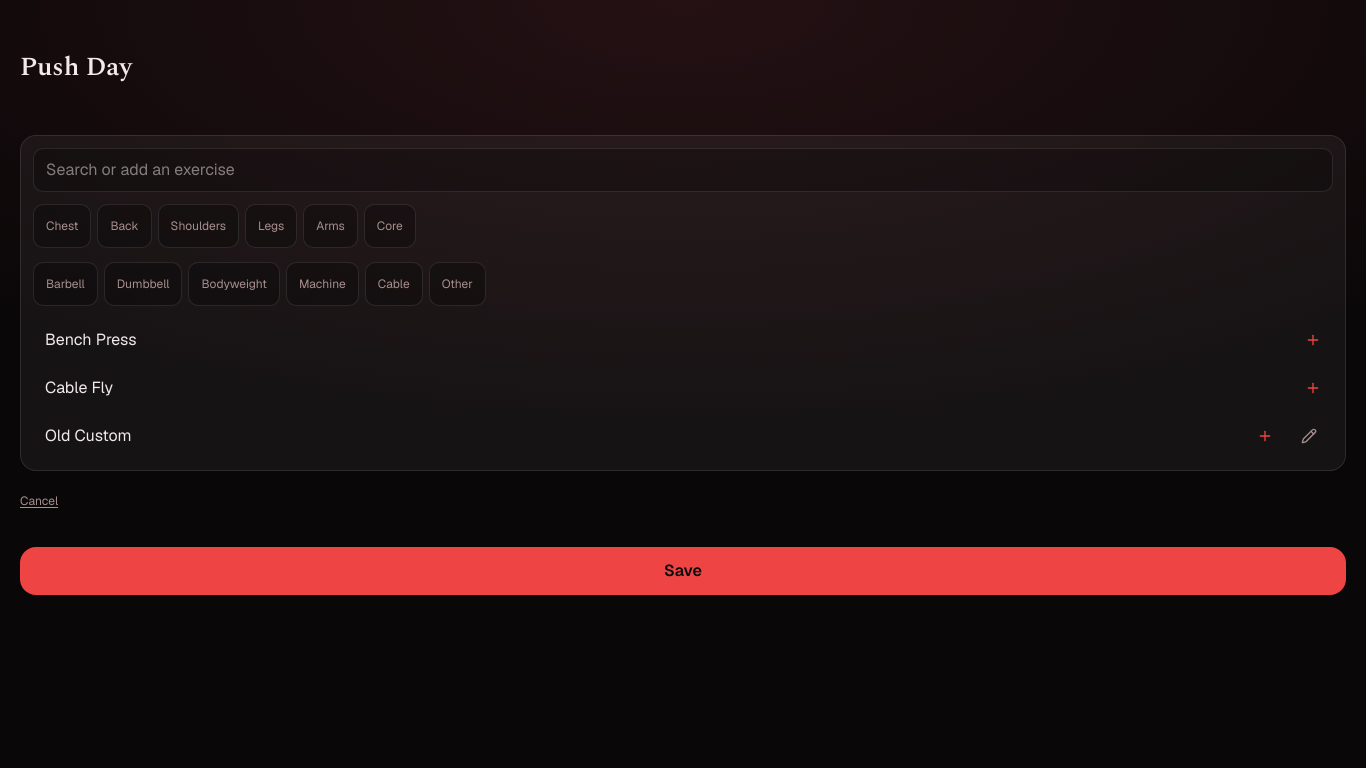
RoutineEditor picker toggle › keeps exactly one row for a renamed custom and logs no duplicate key warning
Click the button named "Edit Old Custom" at (1311,436), box x1=1289 y1=414 x2=1333 y2=458
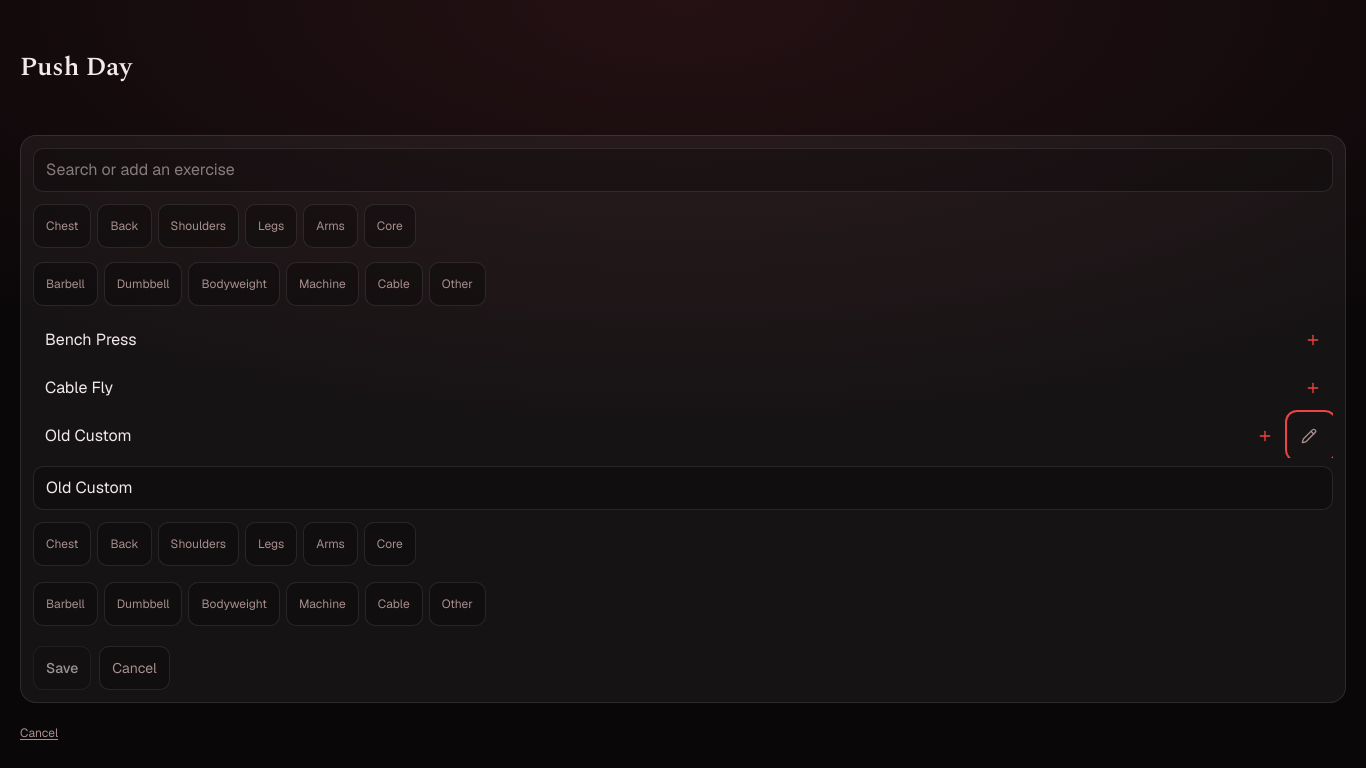
Replace the text in the field named "Exercise name" with "New Custom" at (683,488), box x1=33 y1=466 x2=1333 y2=510
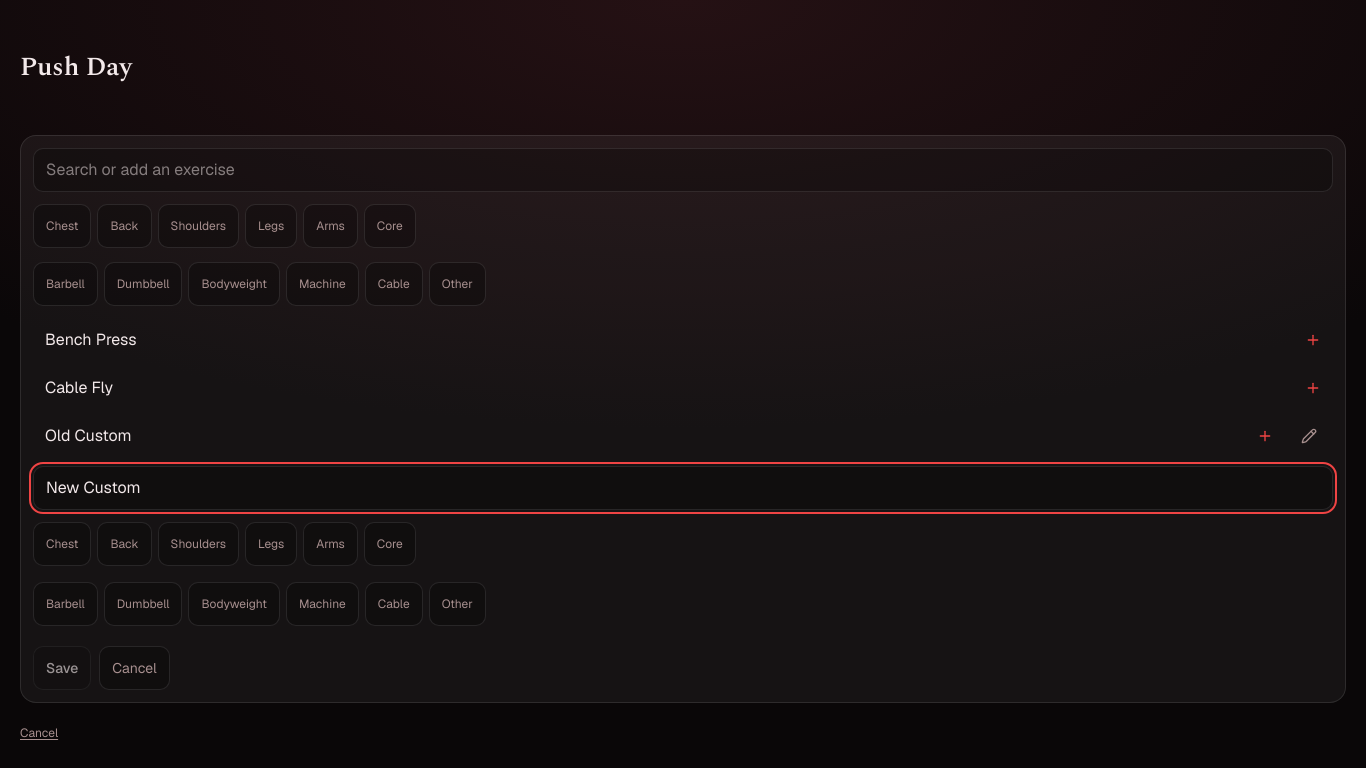
Click the radio button labelled "Chest" at (62,544), box x1=33 y1=522 x2=92 y2=566
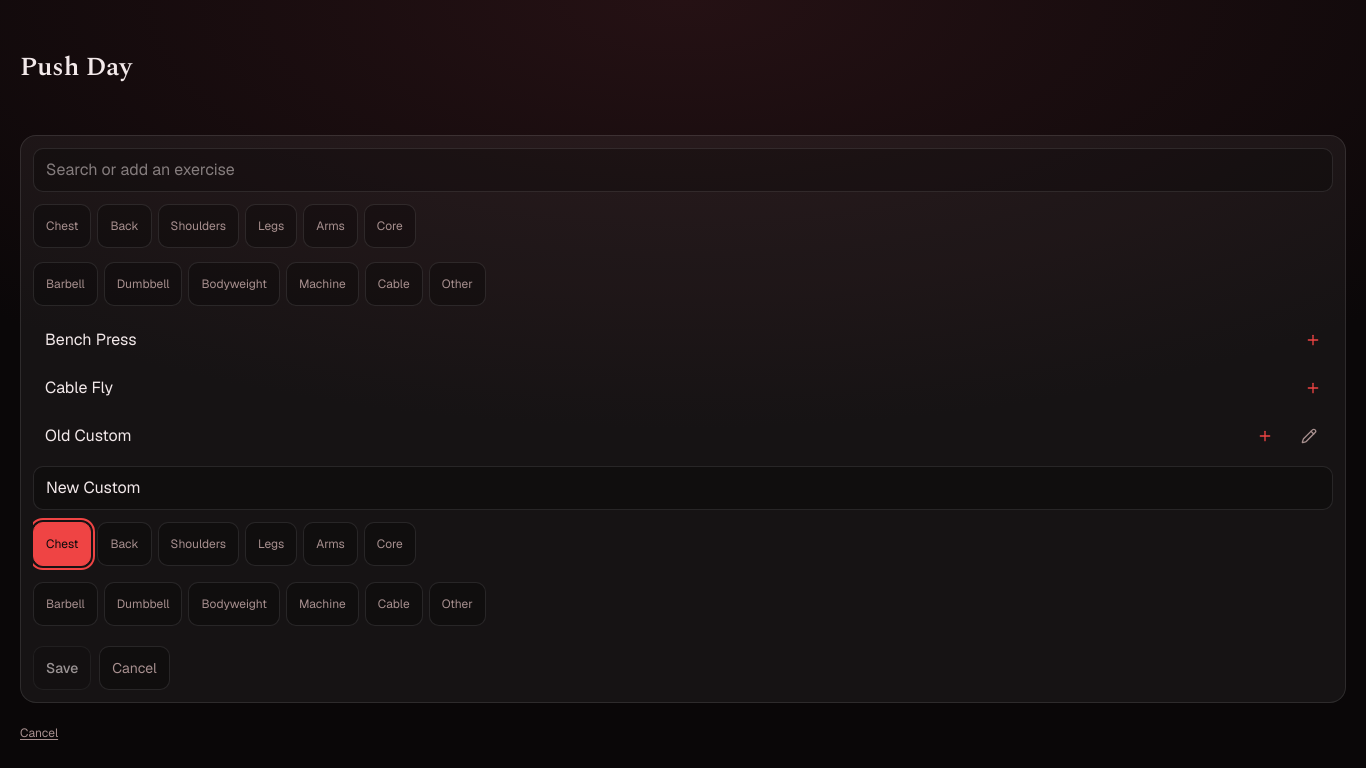
Click the radio button labelled "Machine" at (322,604), box x1=286 y1=582 x2=359 y2=626
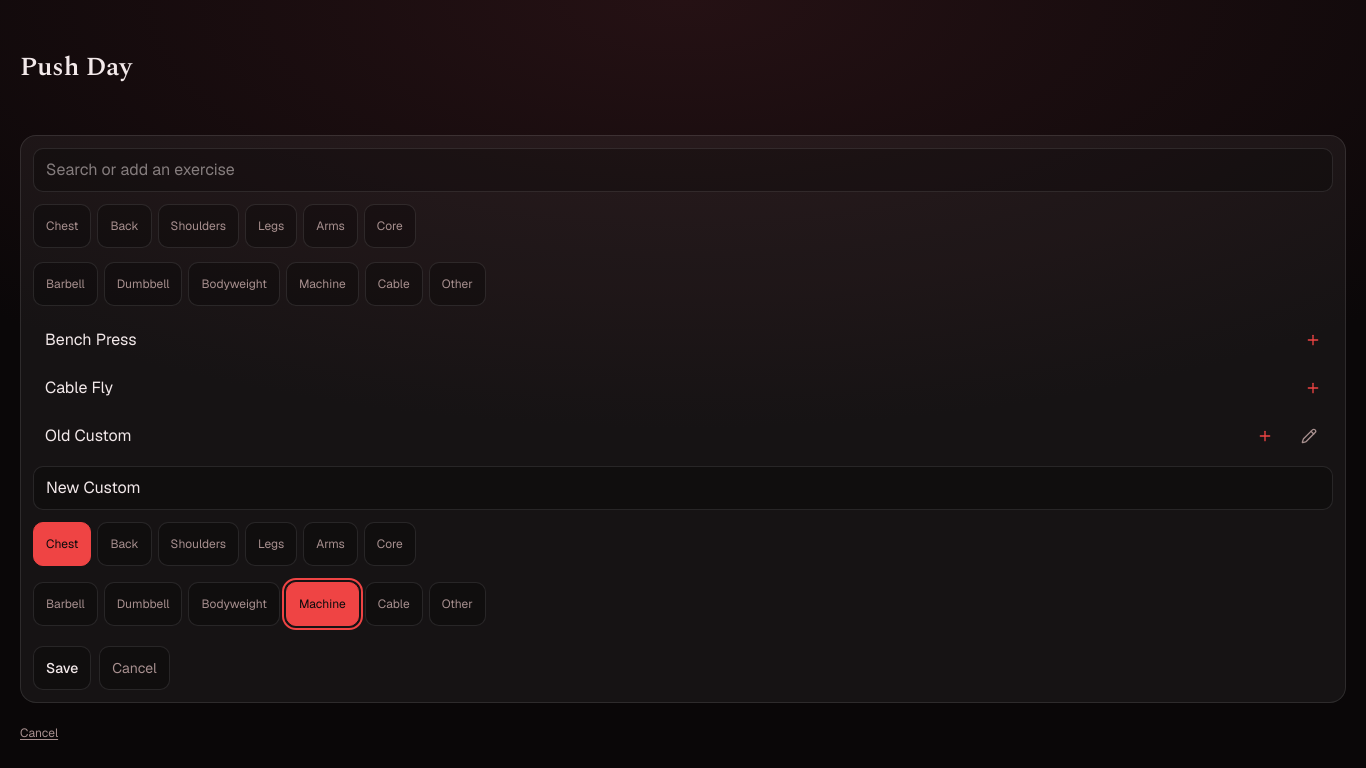
Click the button "Save" at (62,668), box x1=33 y1=646 x2=91 y2=690
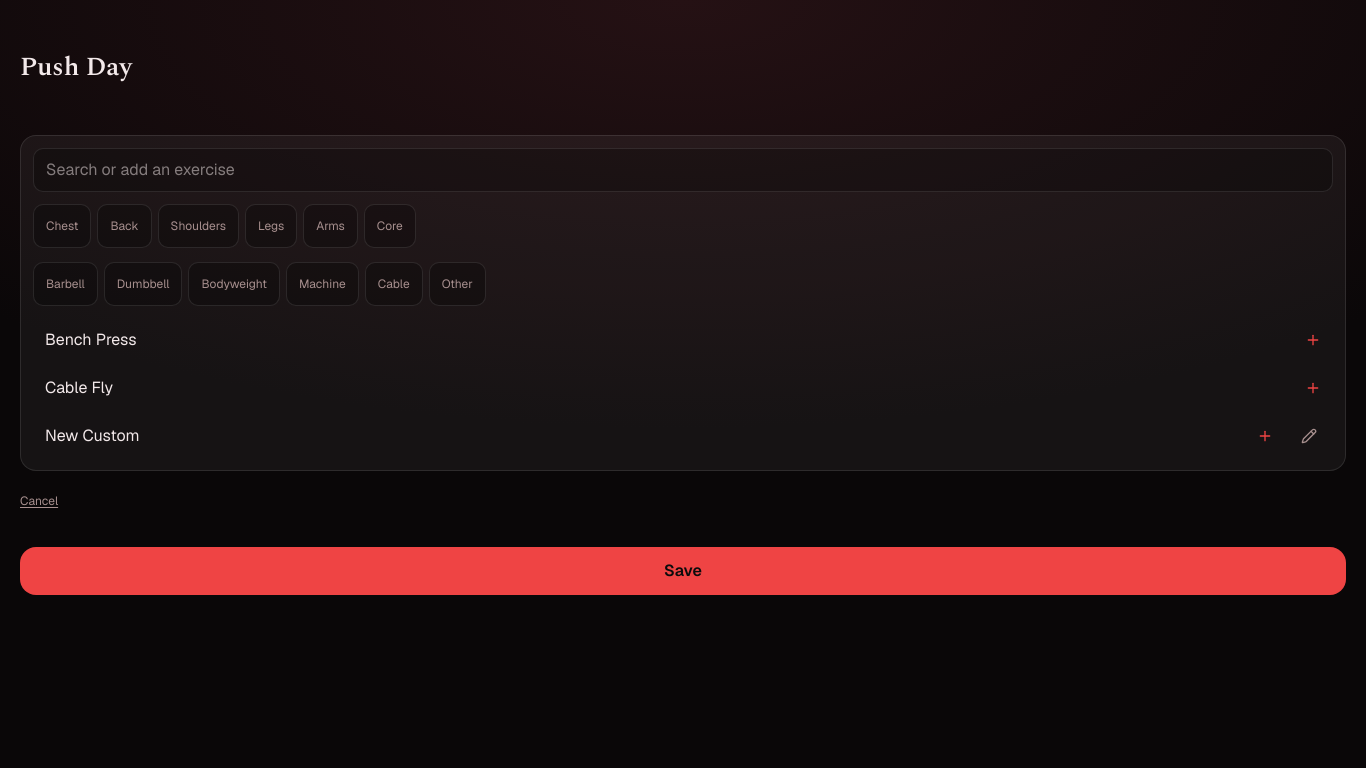
Expected: the number of buttons "New Custom" is 1, x1=33 y1=414 x2=1285 y2=458
Result: the button "New Custom" is shown at x1=33 y1=414 x2=1285 y2=458
Result: the button "Old Custom" is gone
